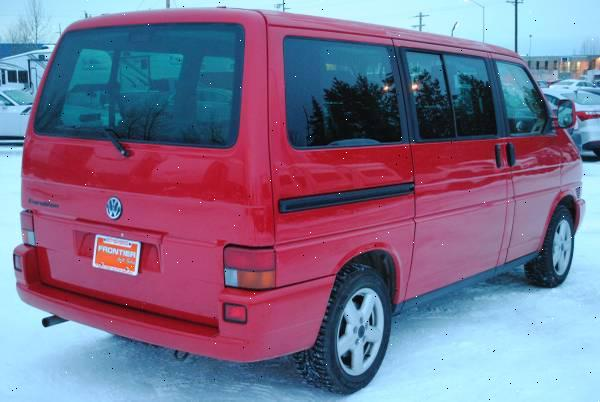Front_Right_Door: (494, 135, 562, 270)
Front_Right_Window: (495, 60, 560, 137)
Left_Taillight: (22, 208, 34, 247)
Rear_Bumper: (14, 244, 335, 360)
Rear_Fender: (262, 23, 412, 302)
Rear_Right_Door: (400, 149, 508, 319)
Rear_Right_Window: (397, 50, 504, 150)
Rear_Windshield: (24, 27, 243, 154)
Right_Taillight: (221, 249, 275, 292)
Roof: (64, 8, 525, 155)
Tailgate: (17, 140, 274, 327)
Wheel: (298, 262, 397, 397), (526, 204, 575, 291)
